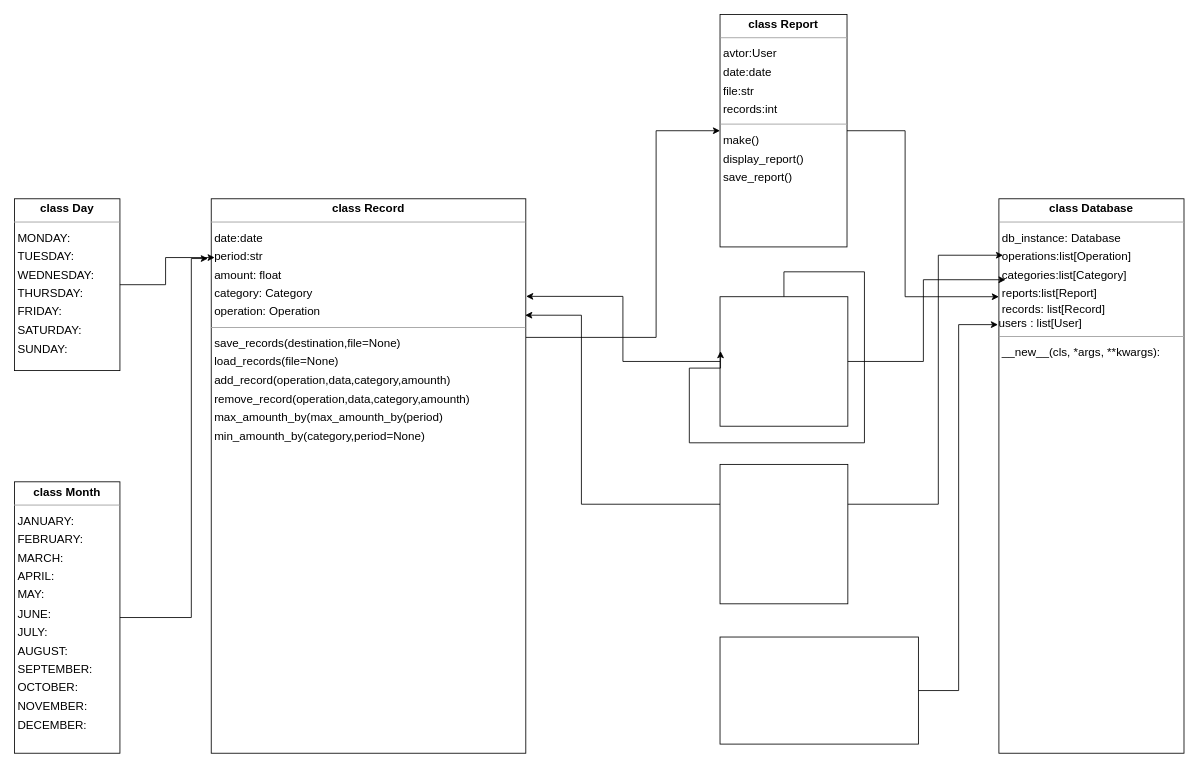
Image size: 1199x768. Some labels were removed from this diagram. Each missing label, with the centre of its shape:
"class Category owner:Category name:str add(name) remove(name)" goes at (x=783, y=361).
"class Operation name:str add(name) remove(name)" goes at (x=783, y=534).
"class User db:Database login: str password:hash" goes at (x=818, y=690).
